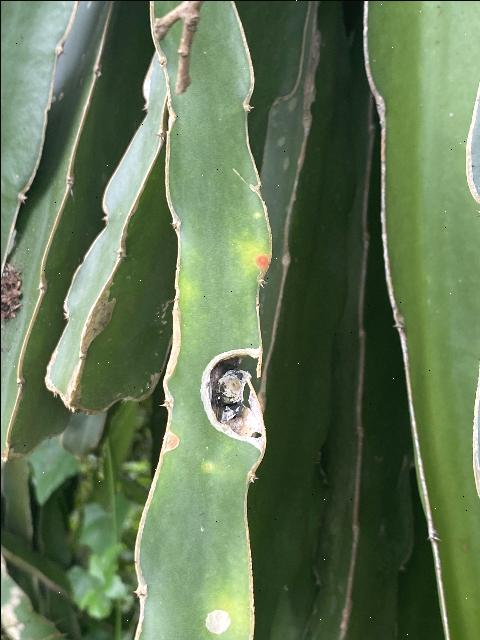stemcanker: (191, 341, 277, 445)
